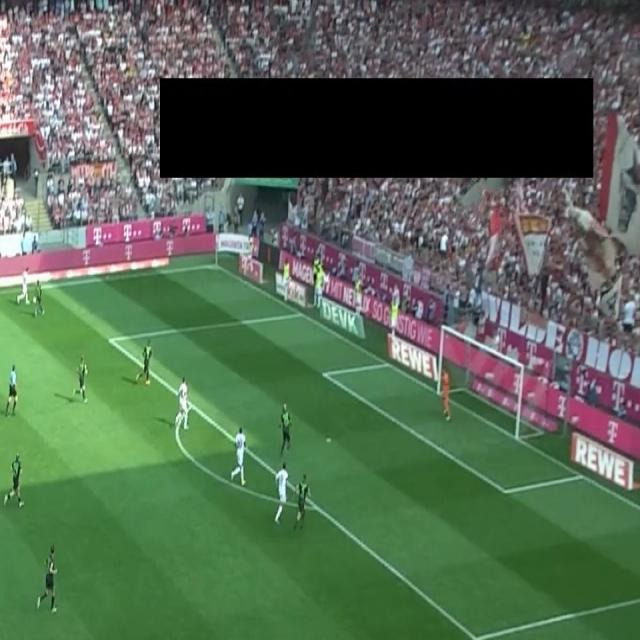ball: (32, 296, 37, 304)
